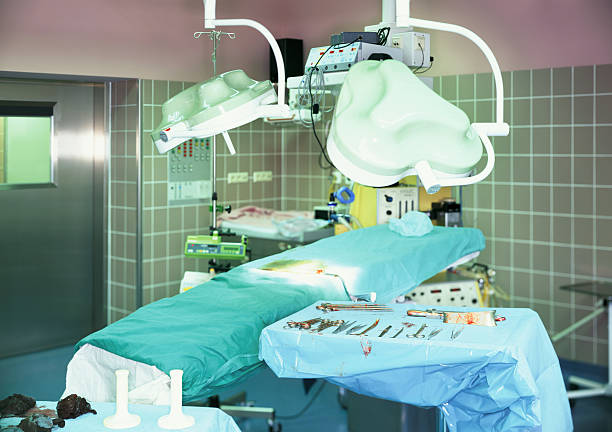electrosurgical_unit: (304, 43, 403, 74), (184, 234, 251, 260)
iv_pole: (193, 31, 236, 275)
operating_bed: (51, 220, 491, 432)
surgical_instrument: (281, 299, 507, 342)
surgical_light: (326, 59, 484, 195), (151, 69, 277, 159)
table: (560, 280, 612, 408)
utility_cart: (259, 300, 536, 432)
